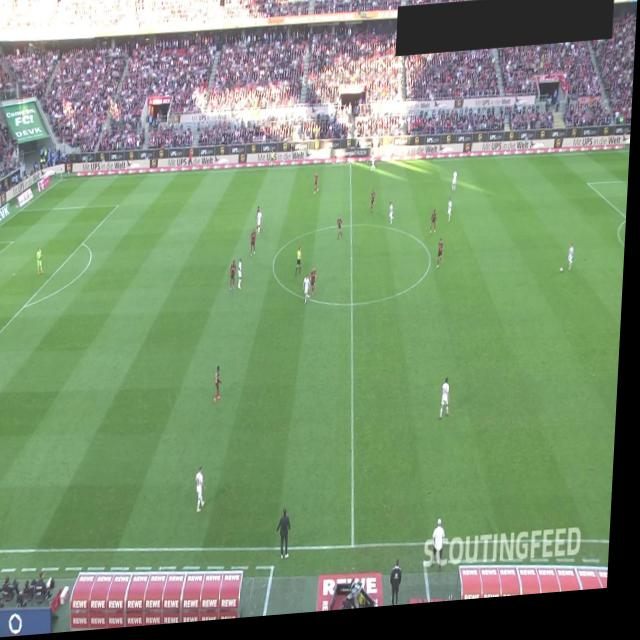goalkeeper: (39, 246, 48, 275)
player: (200, 469, 213, 517), (444, 384, 456, 428), (218, 369, 227, 408), (306, 279, 315, 310), (232, 264, 240, 296), (299, 251, 306, 281), (313, 271, 320, 301), (440, 246, 447, 276), (240, 260, 246, 295), (571, 252, 578, 281), (253, 233, 260, 261), (339, 220, 346, 247), (259, 214, 266, 239), (433, 216, 440, 241), (257, 210, 264, 235), (372, 157, 379, 178), (391, 208, 397, 232), (454, 176, 460, 200), (315, 178, 321, 200), (450, 206, 455, 230), (373, 196, 378, 218), (272, 155, 277, 173)
